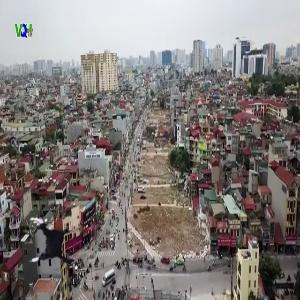drone: (15, 211, 86, 282)
